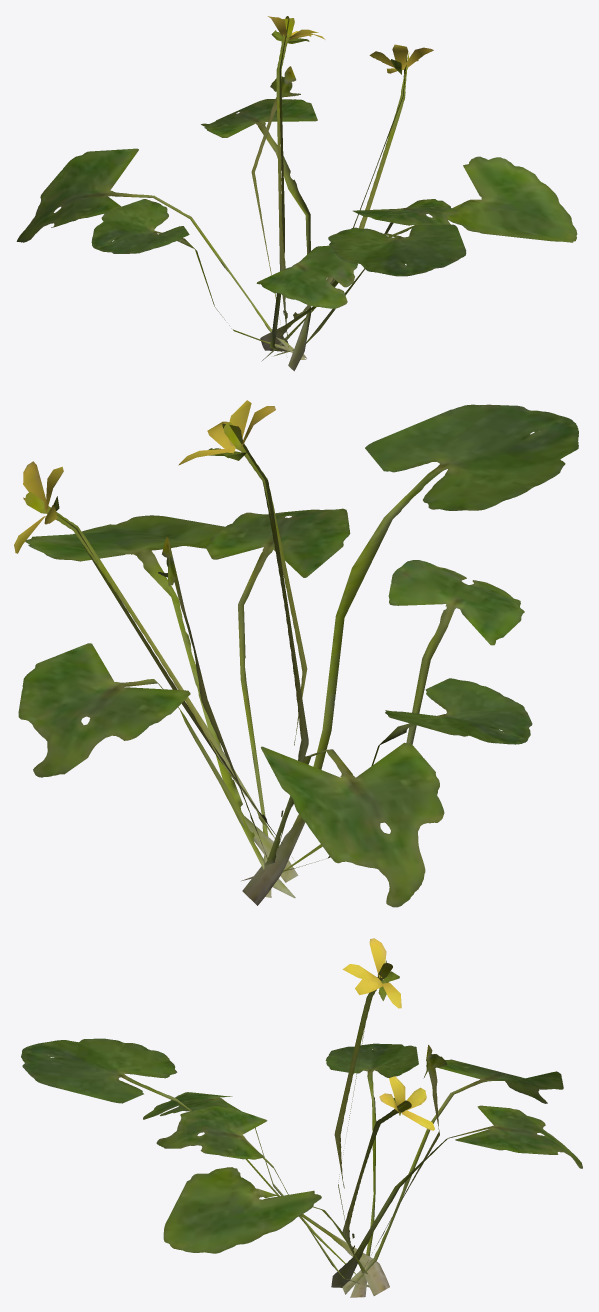
3 renders of one model, top to bottom at view 1: azimuth 30°, elevation 25°; view 2: azimuth 150°, elevation 25°; view 3: azimuth 270°, elevation 25°, orthographic. The views are drawn at different scales.
Parts seen in each view (by area): view 1: celandine_01__d_lod1; view 2: celandine_01__d_lod1; view 3: celandine_01__d_lod1.
Boxes of the visible parts, x1,y1,x2,y2 form: celandine_01__d_lod1: (16, 16, 577, 371); celandine_01__d_lod1: (14, 400, 578, 907); celandine_01__d_lod1: (21, 938, 582, 1297).
Bounding box in the file's own units: 0.1918 × 0.1551 × 0.2313.
1 material, 1 textured.
